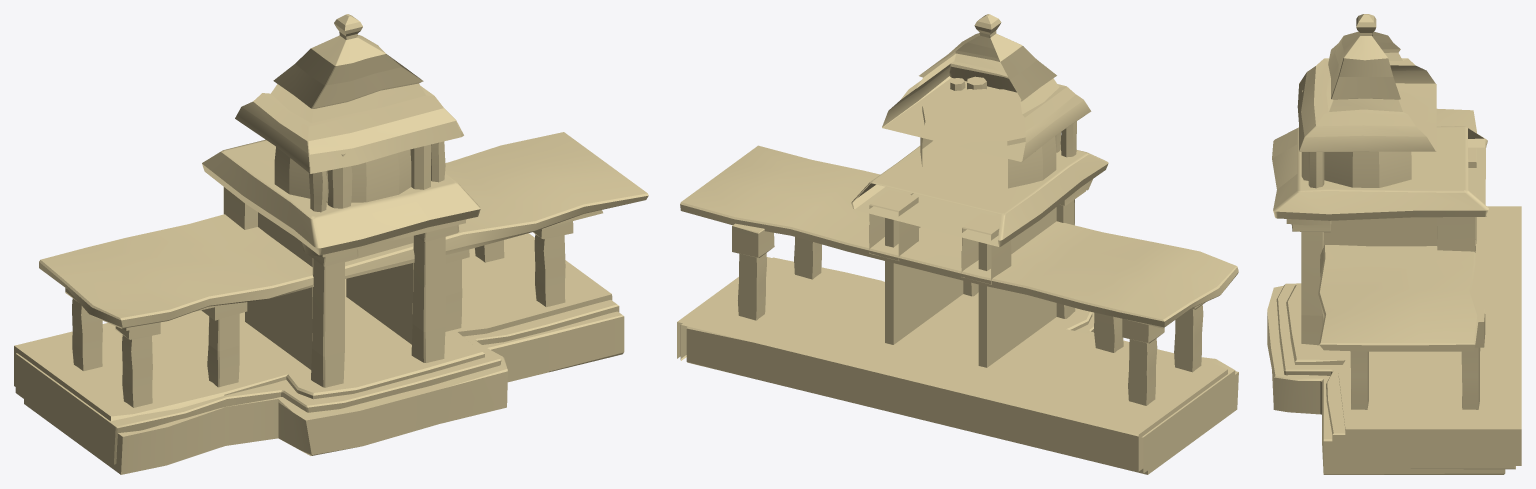
3 renders of one model, left to right at view 1: azimuth 30°, elevation 25°; view 2: azimuth 150°, elevation 25°; view 3: azimuth 270°, elevation 25°, orthographic. The views are drawn at different scales.
Parts seen in each view (by area): view 1: polySurface91; view 2: polySurface91; view 3: polySurface91.
Boxes of the visible parts, x1,y1,x2,y2 form: polySurface91: (14,14,648,474); polySurface91: (677,14,1238,474); polySurface91: (1267,14,1521,474).
Bounding box in the file's own units: 34.15 × 23.49 × 15.52.
